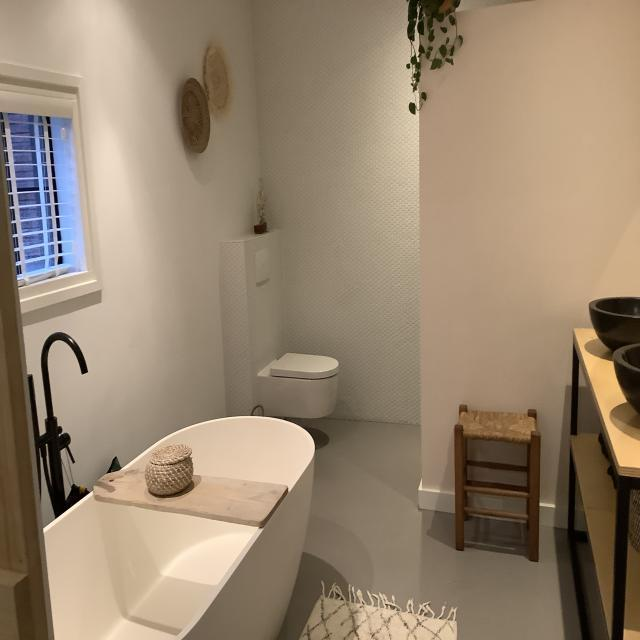bath: (26, 328, 318, 640)
toilet: (254, 242, 340, 424)
wastafel: (561, 319, 640, 640), (587, 293, 640, 419)
